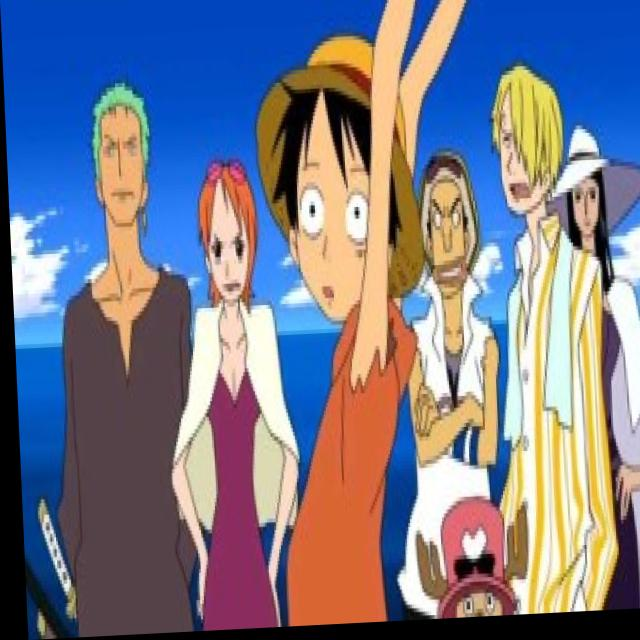Chyopa: (400, 491, 530, 624)
Luffy: (249, 24, 422, 318)
Nami: (188, 158, 262, 320)
NicoRobin: (546, 109, 640, 274)
Sangdi: (484, 66, 569, 229)
Usopp: (405, 149, 485, 311)
Zoro: (83, 73, 161, 243)
